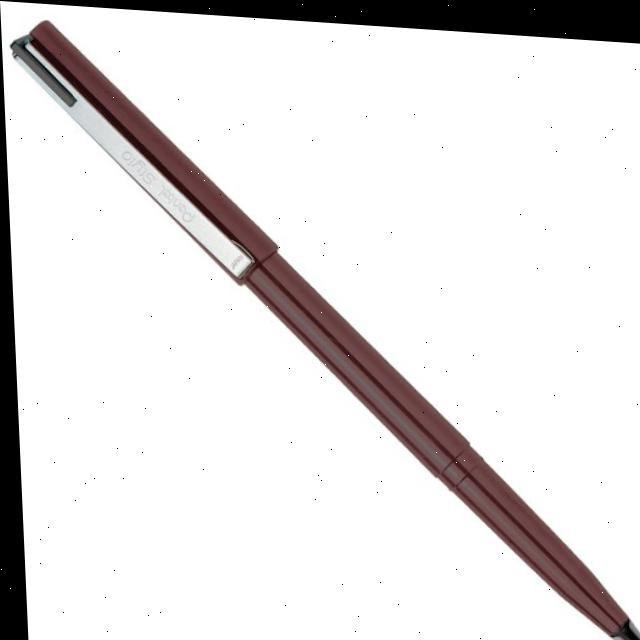pen: (7, 16, 640, 640)
